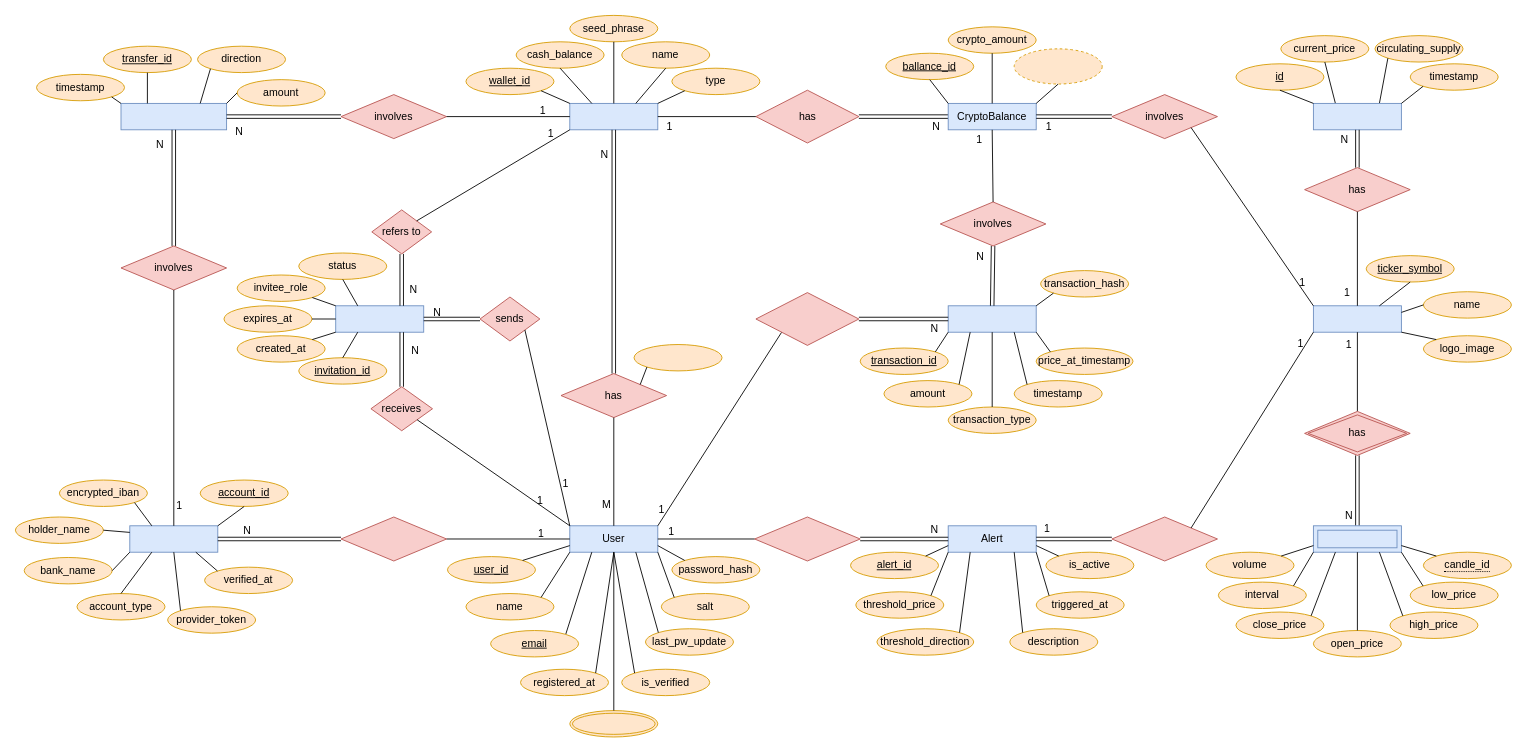
Image size: 1527x752. Some labels were removed from this diagram. Each missing label, with the centre of its shape:
BankAccount: [173,538]
Candlestick: [1357,538]
crypto_balance: [1057,66]
Cryptocurrency: [1357,318]
CryptoHistory: [1357,116]
Invitation: [379,318]
makes: [807,318]
owns: [393,538]
phone: [613,723]
referes to: [1164,538]
role: [677,357]
sets: [807,538]
Transaction: [991,318]
Wallet: [613,116]
WalletBankTransfer: [173,116]
